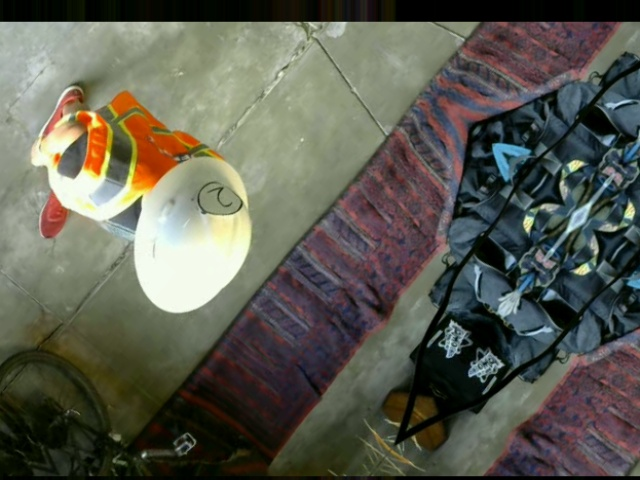two: (190, 173, 246, 230)
